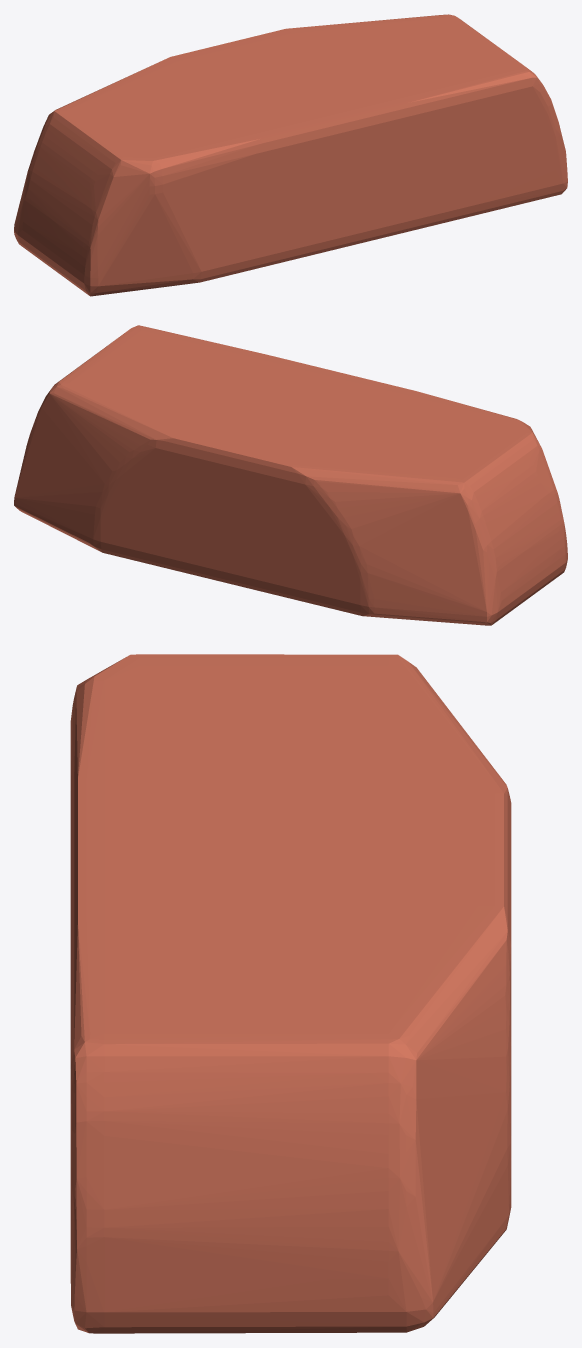
File: left_shoulder_roll_link_part_9.obj
3 renders of one model, top to bottom at view 1: azimuth 30°, elevation 25°; view 2: azimuth 150°, elevation 25°; view 3: azimuth 270°, elevation 25°, orthographic. The views are drawn at different scales.
Size of the model in its own units: 0.0983 by 0.0259 by 0.0399.
